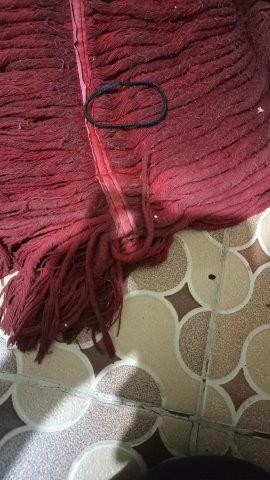karet: (83, 80, 169, 129)
